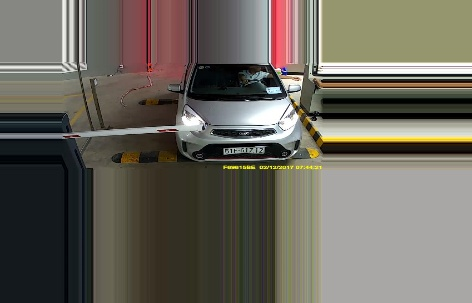plate: (222, 144, 265, 156)
